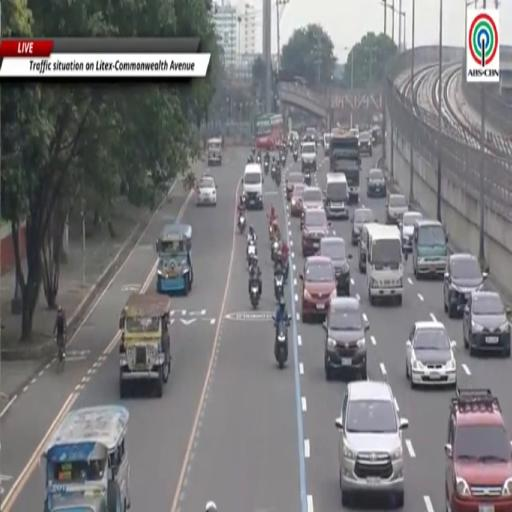bus: (255, 115, 284, 151)
car: (336, 380, 408, 507), (445, 389, 511, 511), (324, 297, 369, 380), (406, 322, 456, 388), (463, 291, 510, 357), (444, 253, 488, 317), (300, 256, 336, 323), (319, 236, 351, 296), (301, 210, 330, 257), (301, 186, 324, 229), (351, 207, 375, 246), (400, 212, 422, 252), (385, 195, 409, 225), (197, 176, 217, 205), (367, 169, 386, 198), (290, 184, 305, 218), (301, 142, 317, 172), (303, 186, 323, 209), (286, 172, 302, 200), (360, 132, 372, 156)
jeepney: (41, 406, 130, 511), (120, 293, 170, 397), (156, 223, 193, 295), (207, 138, 222, 166)
motorcycle: (274, 317, 290, 369), (274, 272, 284, 301), (279, 250, 288, 282), (250, 282, 260, 309), (247, 240, 257, 266), (271, 240, 279, 262), (238, 215, 246, 233), (275, 168, 281, 186), (304, 171, 311, 186), (271, 164, 276, 180), (264, 160, 269, 175), (269, 224, 273, 242), (281, 153, 286, 166), (293, 150, 297, 163), (256, 156, 262, 164), (289, 140, 293, 150)
truck: (330, 133, 360, 203)
